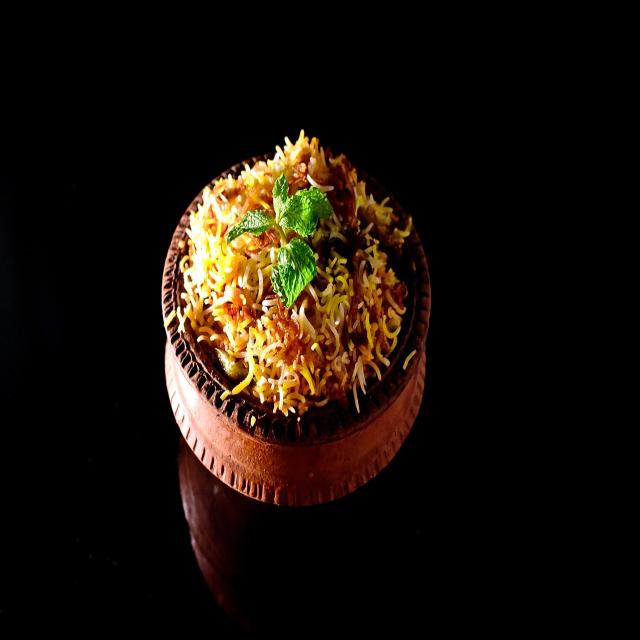Biryani: (176, 129, 411, 421)
